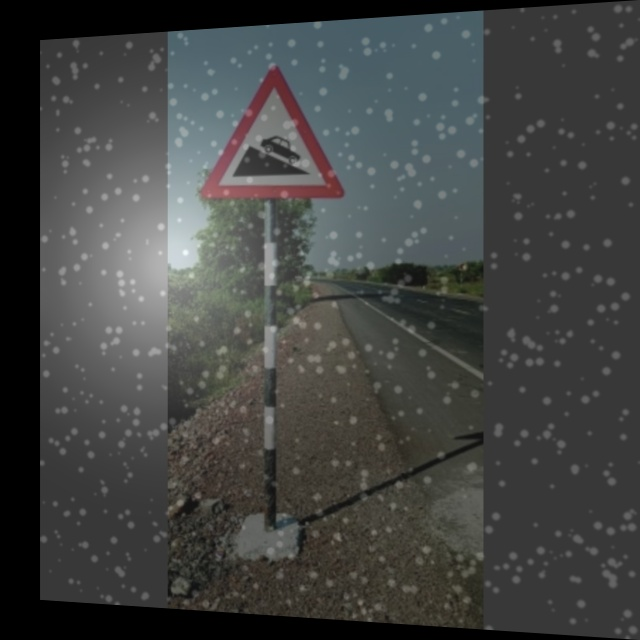Steep_Descent: (205, 63, 343, 208)
